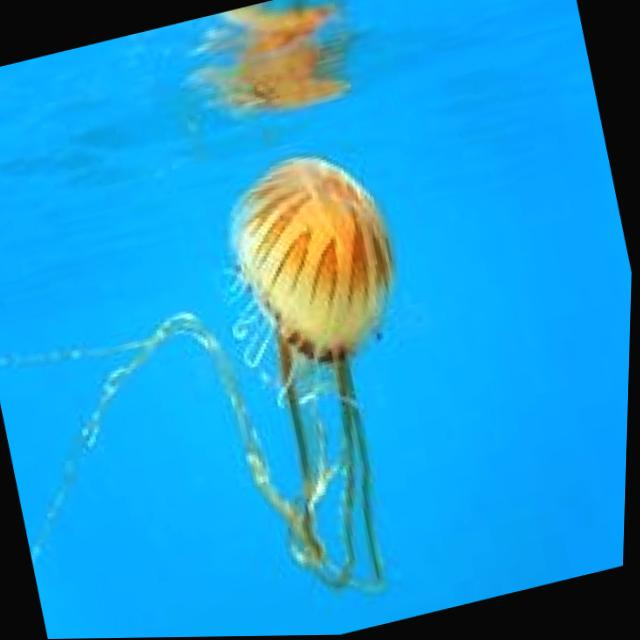Box-jellyfish: (173, 0, 372, 132)
